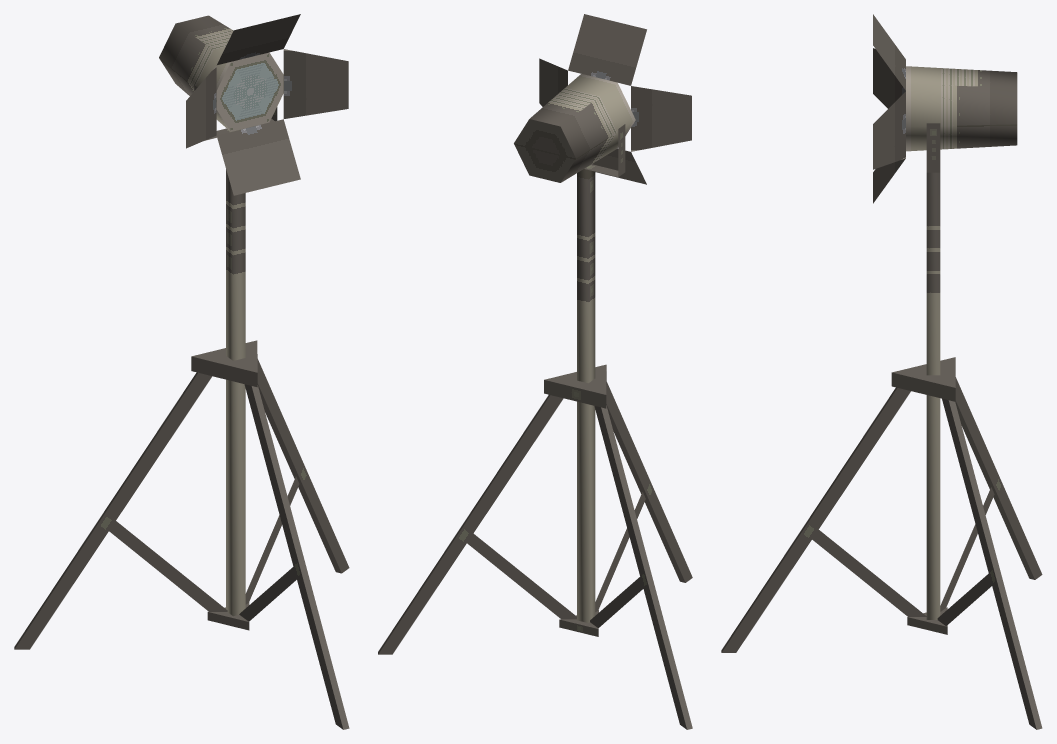
The model's file is 03d6_Spotlight.glb.
3 views of the same model, side by side, from view 1: azimuth 30°, elevation 25°; view 2: azimuth 150°, elevation 25°; view 3: azimuth 270°, elevation 25° (orthographic). The views are drawn at different scales.
Parts seen in each view (by area): view 1: part_0; view 2: part_0; view 3: part_0.
Part boxes in pixels (x1=…): part_0: x1=14, y1=14, x2=349, y2=729; part_0: x1=378, y1=14, x2=692, y2=729; part_0: x1=721, y1=14, x2=1042, y2=729.
Size of the model in its own units: 0.9318 by 1.73 by 0.807.
1 material, 1 textured.
